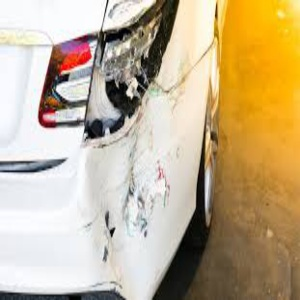bumper_scratch: (75, 145, 188, 267)
tail_lights: (36, 11, 178, 138)
